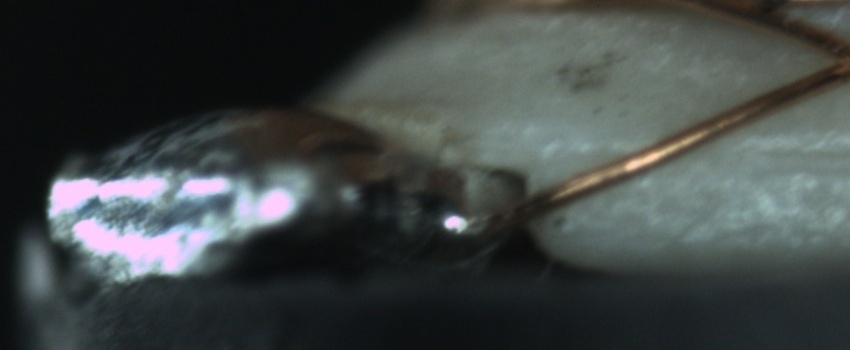CL: (803, 25, 850, 90)
DL: (614, 123, 848, 188)
